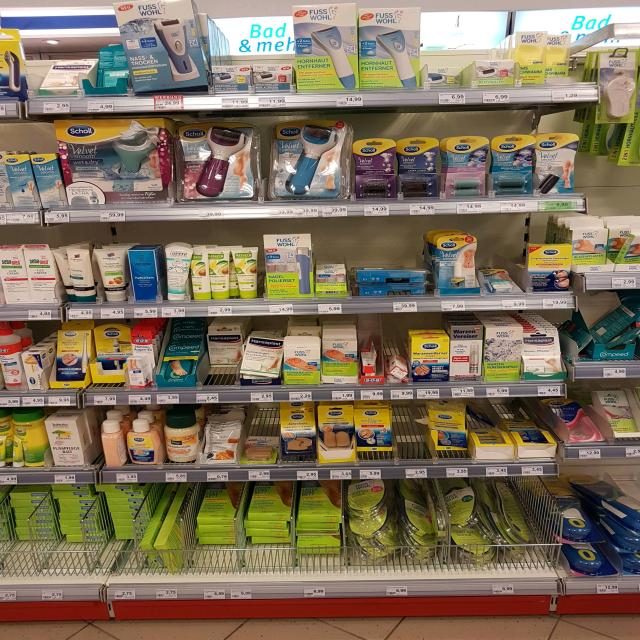empty: (400, 392, 431, 473)
